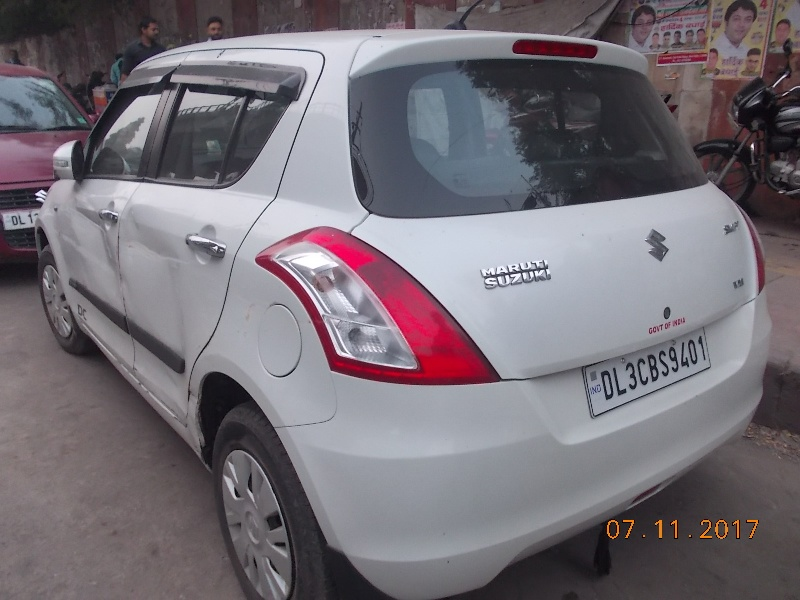Dent: (124, 216, 190, 290)
